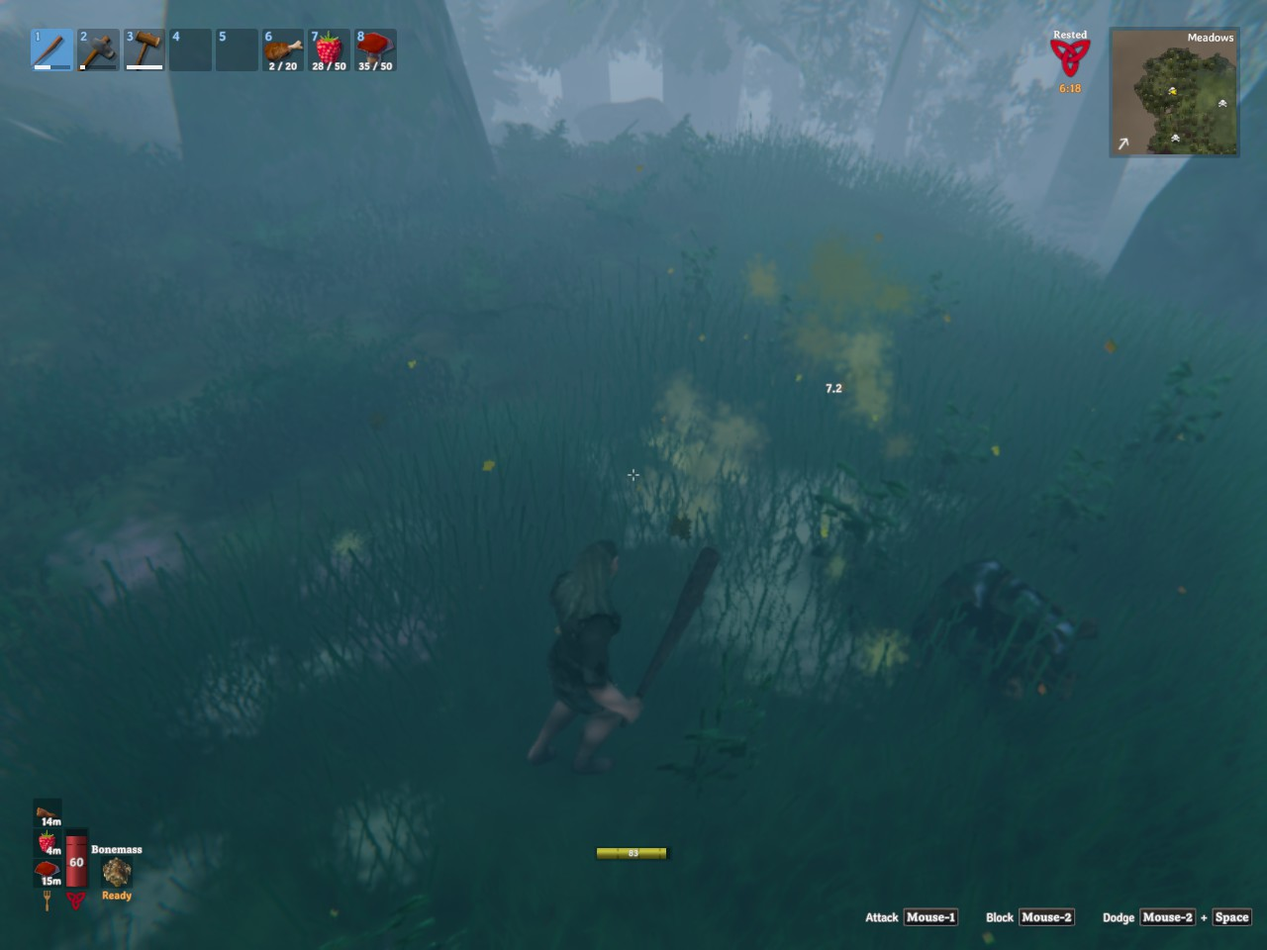Greydwarf: (911, 560, 1098, 698)
